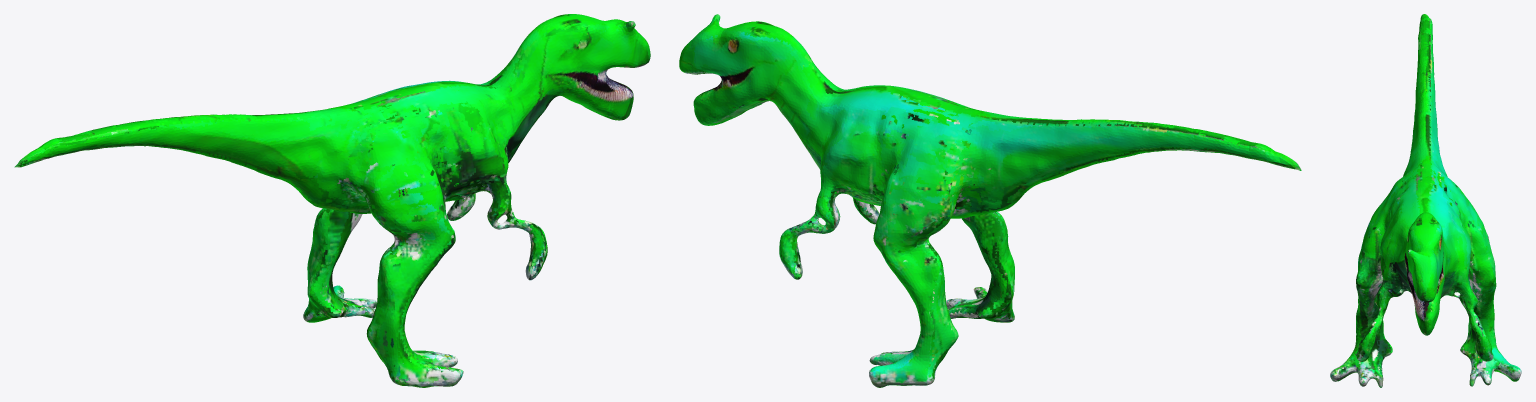
The model's file is textured_text2tex.glb.
3 renders of one model, left to right at view 1: azimuth 30°, elevation 25°; view 2: azimuth 150°, elevation 25°; view 3: azimuth 270°, elevation 25°, orthographic. The views are drawn at different scales.
Parts seen in each view (by area): view 1: Node; view 2: Node; view 3: Node.
Part boxes in pixels (<box>): Node: <box>14,14,650,387</box>; Node: <box>679,14,1301,387</box>; Node: <box>1330,14,1521,387</box>.
Bounding box in the file's own units: 1 × 0.4367 × 0.3265.
1 material, 1 textured.
